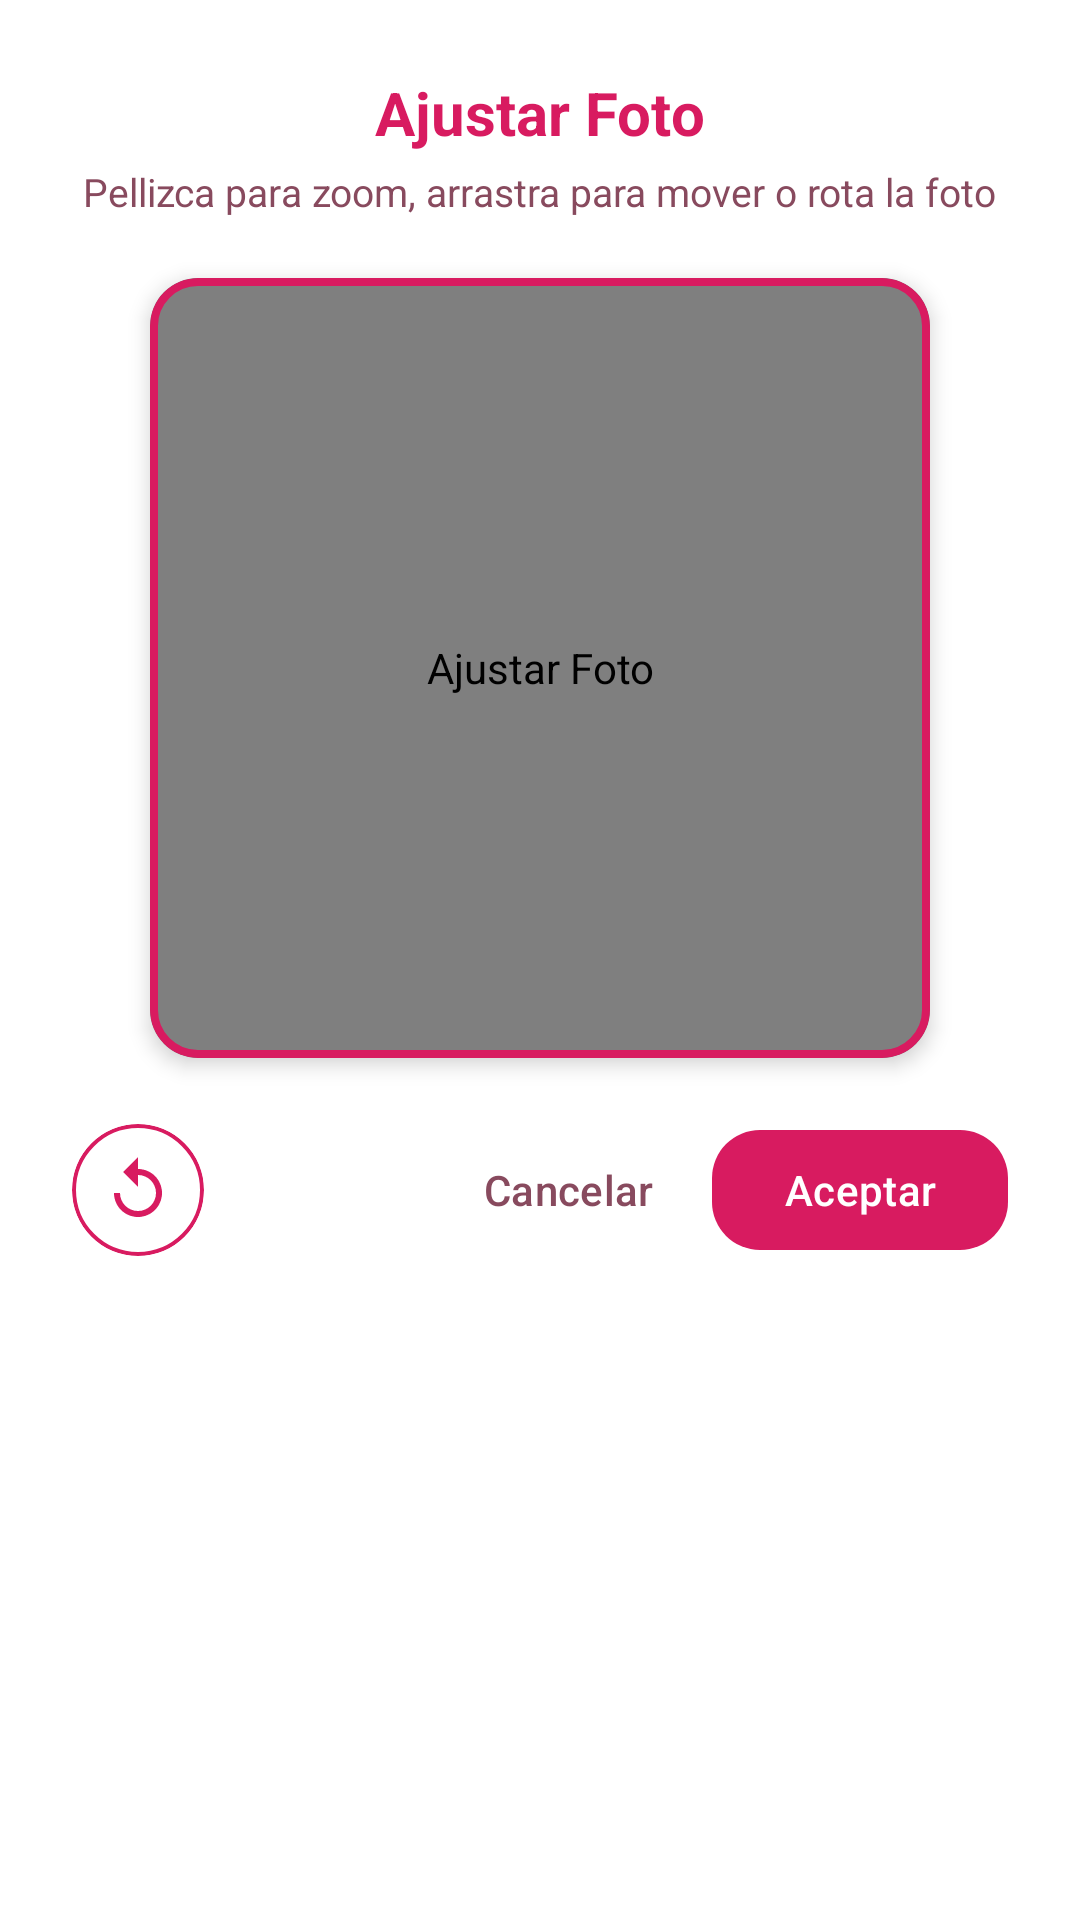

Where icons sit on this 1080x1920 app screen, as (x1, y1, x2, y2):
Rotar: (72, 1124, 204, 1256)
